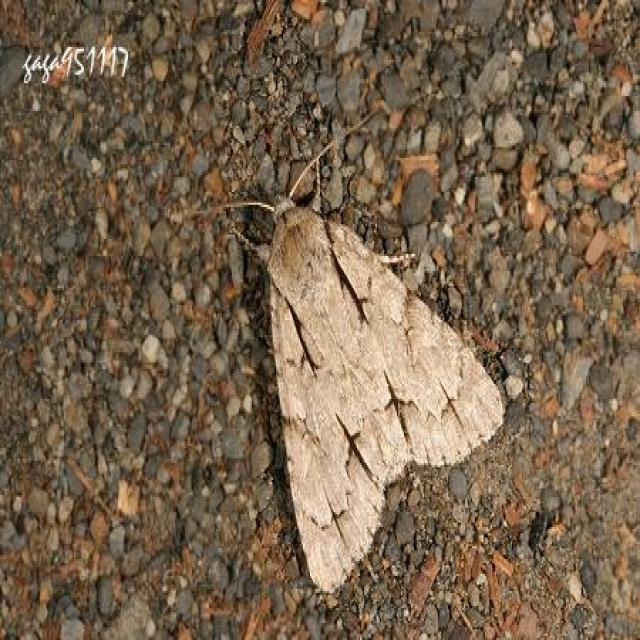armyworm: (244, 186, 500, 568)
